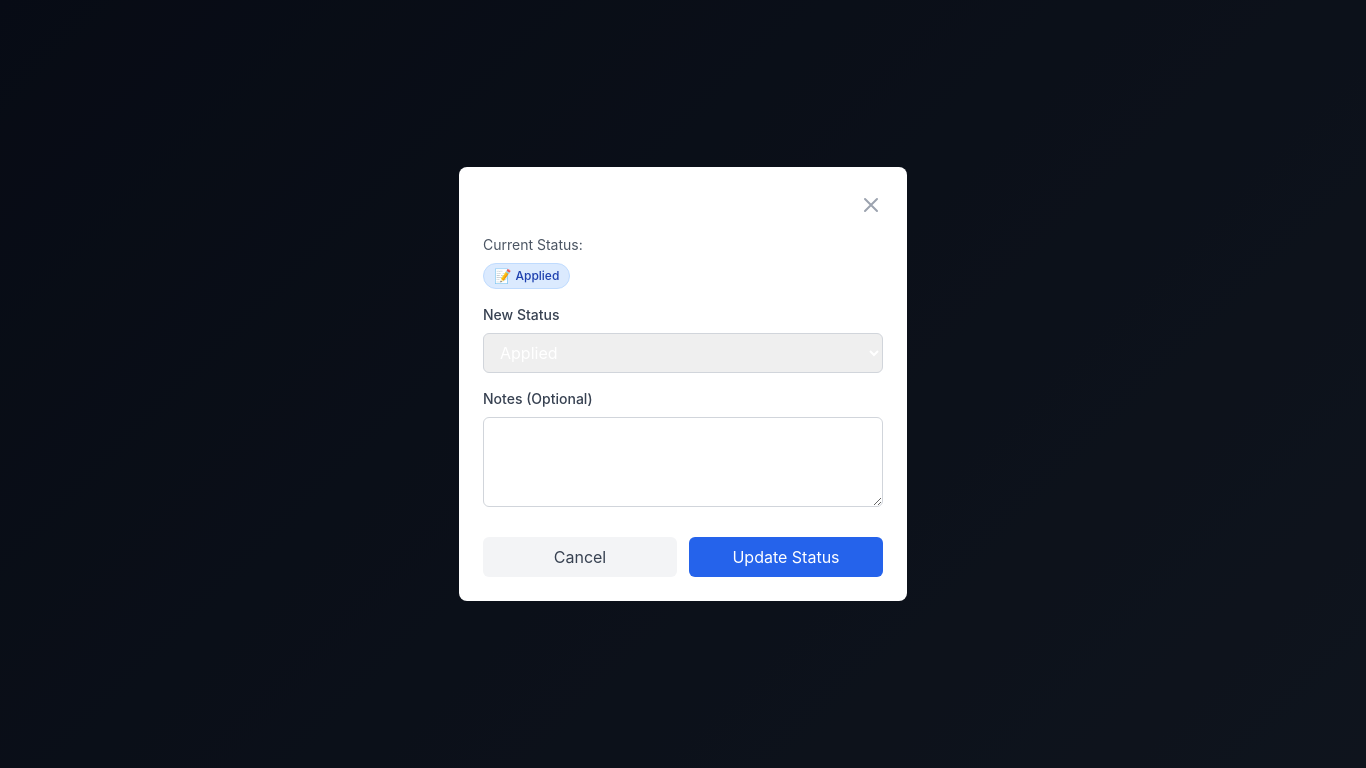
StatusUpdateModal › should handle API errors
This screenshot has width=1366, height=768.
Step 1. Click the button "Update Status" → click(786, 557), box [689,537,883,577]
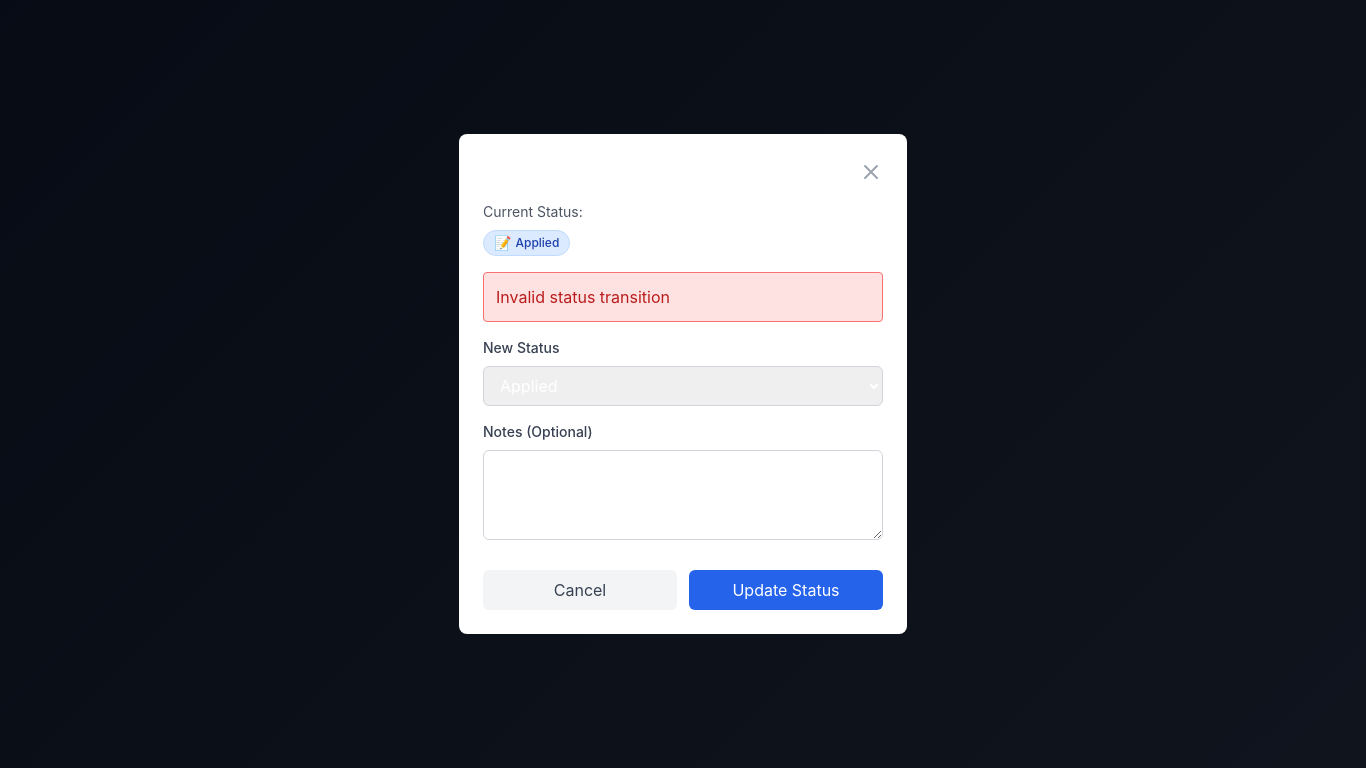
expect the text "Invalid status transition" is shown: met, box [483,272,883,322]
